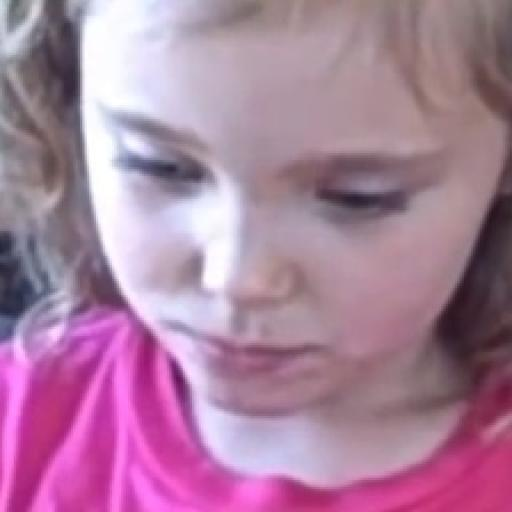Autism: (27, 8, 512, 464)
